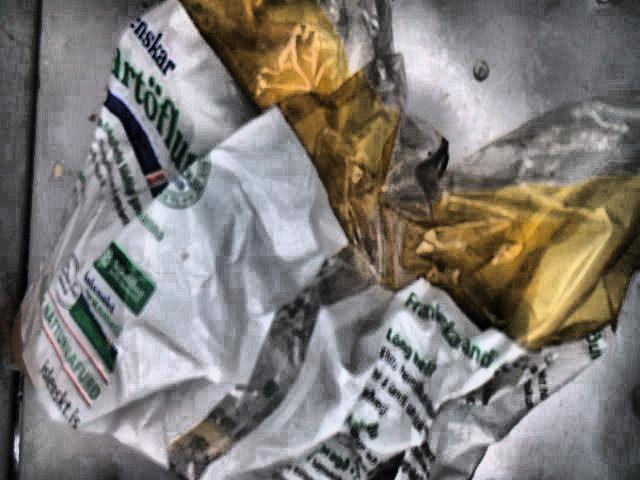Plastic: (5, 0, 640, 480)
